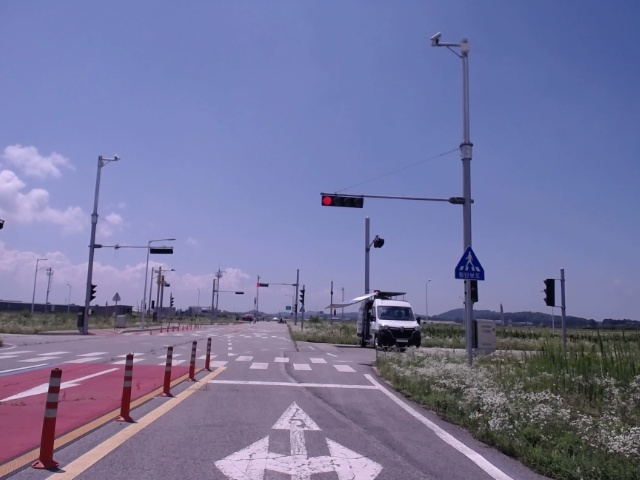red_4: (322, 196, 363, 208)
